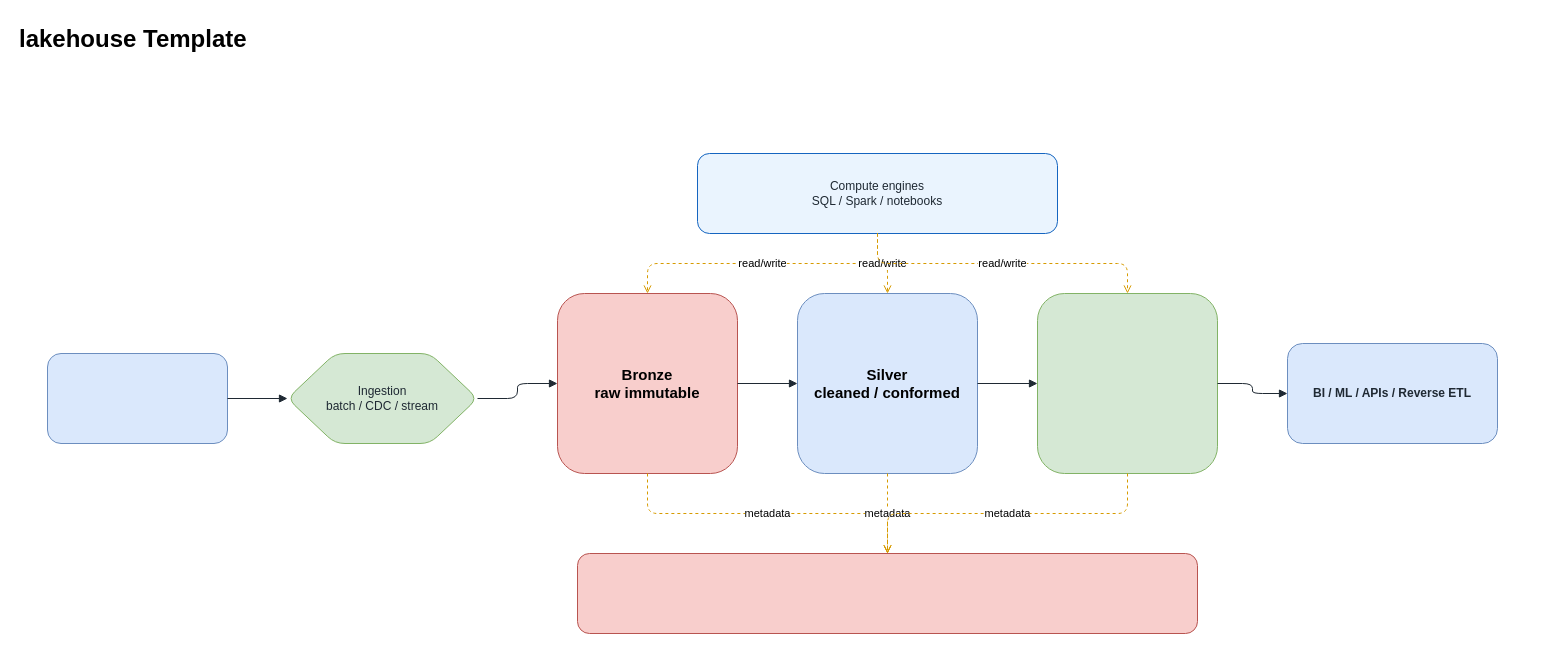
Image size: 1554x651. Some labels were removed from this diagram. Here are the shapes that lost their labels. From the top down, the box of each, then its label:
(46, 352, 228, 444): Data sources apps, DBs, SaaS, files
(1036, 292, 1218, 474): Gold business-ready marts
(576, 552, 1198, 634): Catalog / Governance / Security
